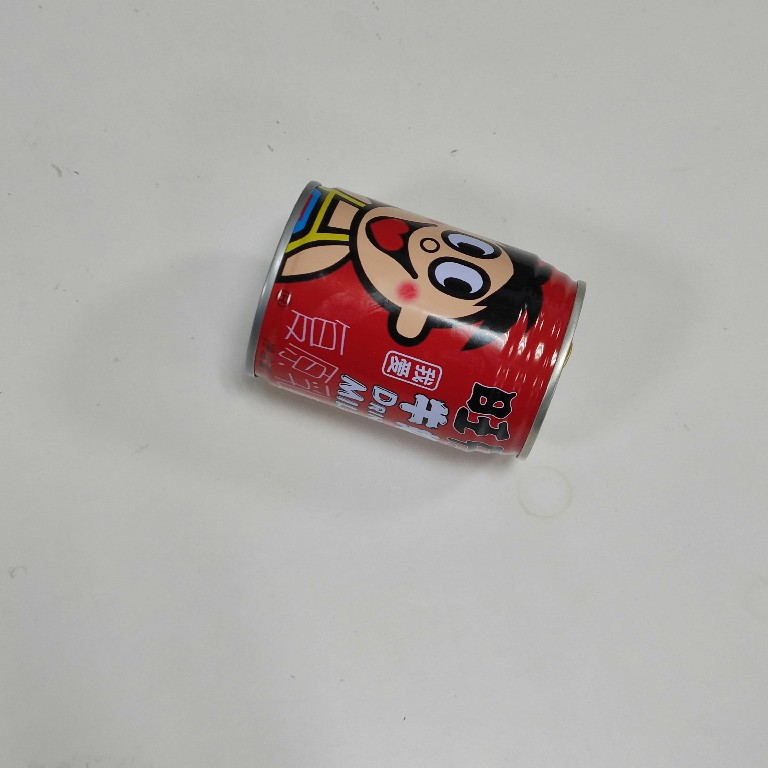can: (238, 176, 590, 463)
